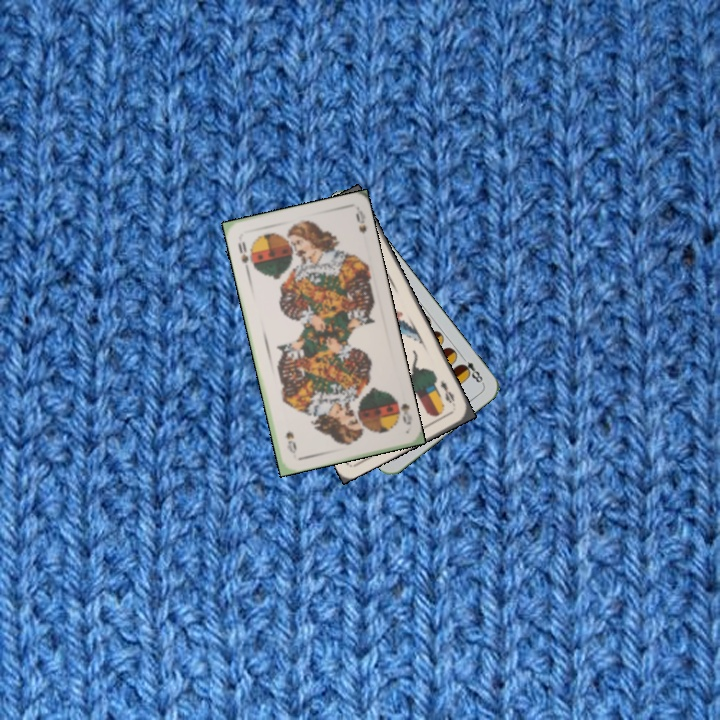E8: (456, 351, 486, 386)
EO: (436, 377, 457, 406)
SO: (389, 392, 415, 427), (234, 238, 256, 274)
